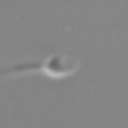normal: (1, 63, 43, 86)
